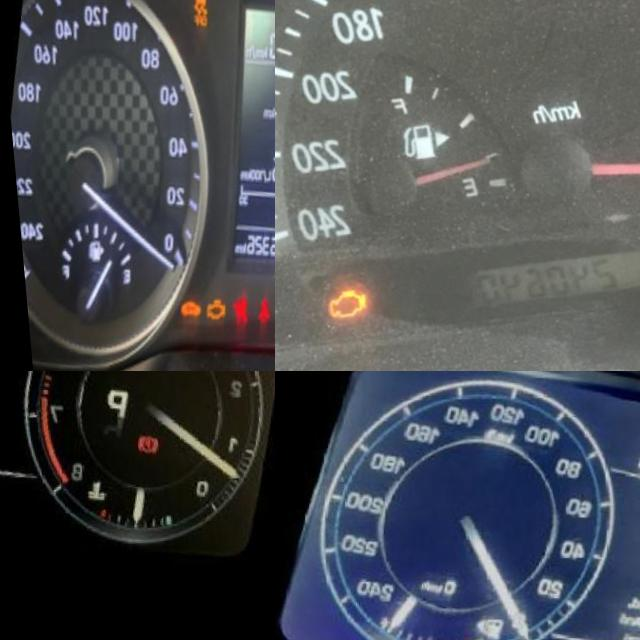Engine cooling system: (72, 485, 103, 520)
Low fuel level: (472, 610, 502, 640)
security: (164, 297, 196, 328)
